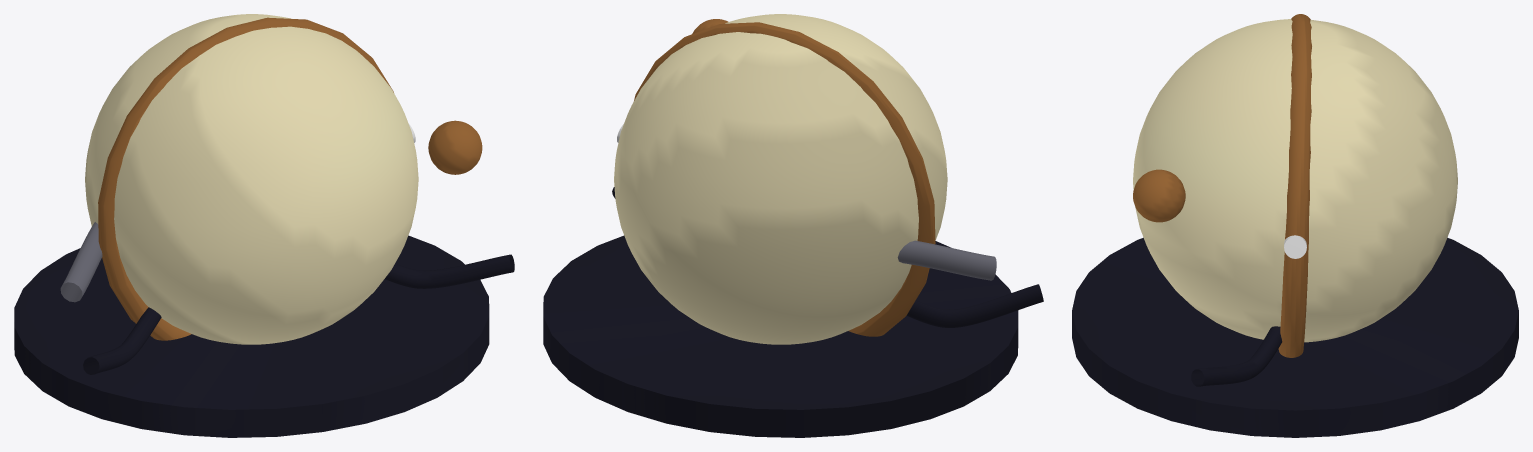
The model's file is 0411_微生物图鉴_列文虎克显微镜.glb.
3 renders of one model, left to right at view 1: azimuth 30°, elevation 25°; view 2: azimuth 150°, elevation 25°; view 3: azimuth 270°, elevation 25°, orthographic. The views are drawn at different scales.
Parts seen in each view (by area): view 1: card_0411; view 2: card_0411; view 3: card_0411.
Part boxes in pixels (bbox=[...]): card_0411: bbox=[14, 14, 514, 437]; card_0411: bbox=[543, 14, 1043, 437]; card_0411: bbox=[1072, 14, 1518, 437].
Bounding box in the file's own units: 1.39 × 1 × 1.27.
